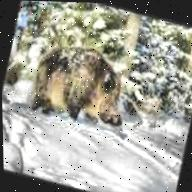boar: (2, 28, 160, 160)
